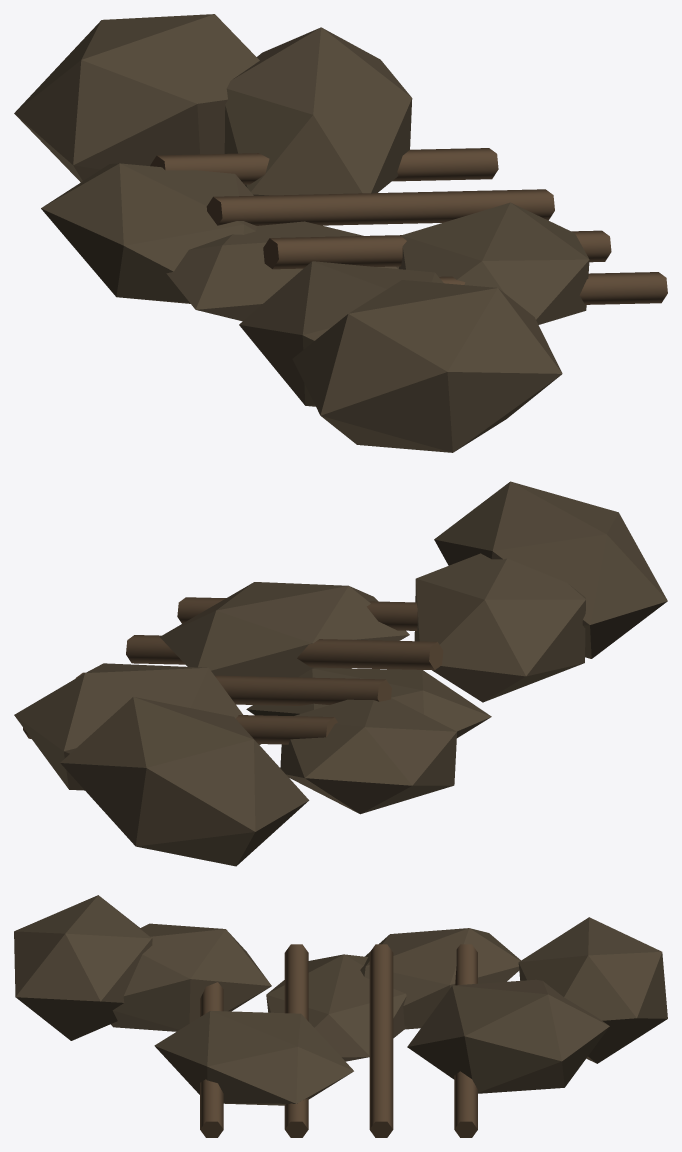
Rendered from washed-bank.glb.
The picture shows the model from 3 angles, top to bottom: view 1: azimuth 30°, elevation 25°; view 2: azimuth 150°, elevation 25°; view 3: azimuth 270°, elevation 25°; orthographic projection. The views are drawn at different scales.
Parts seen in each view (by area): view 1: washed-bank; view 2: washed-bank; view 3: washed-bank.
Boxes of the visible parts, x1,y1,x2,y2 form: washed-bank: [14, 14, 667, 452]; washed-bank: [14, 481, 667, 866]; washed-bank: [14, 895, 667, 1137].
Bounding box in the file's own units: 1.12 × 0.3941 × 1.93.
